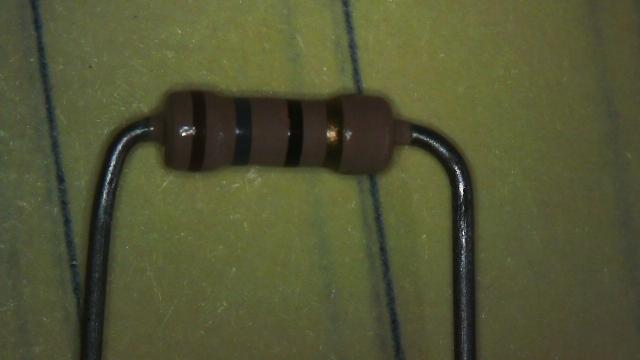black: (290, 102, 300, 165)
brown: (192, 91, 206, 170)
gold: (328, 100, 342, 165)
grey: (233, 98, 253, 166)
resistor: (150, 67, 416, 192)
